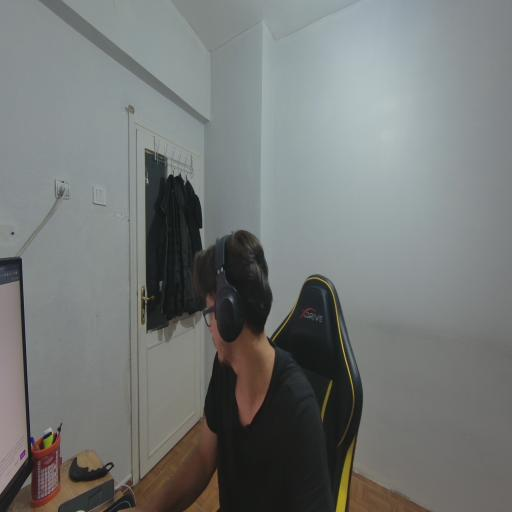cuma-face-v2: (192, 228, 290, 390)
